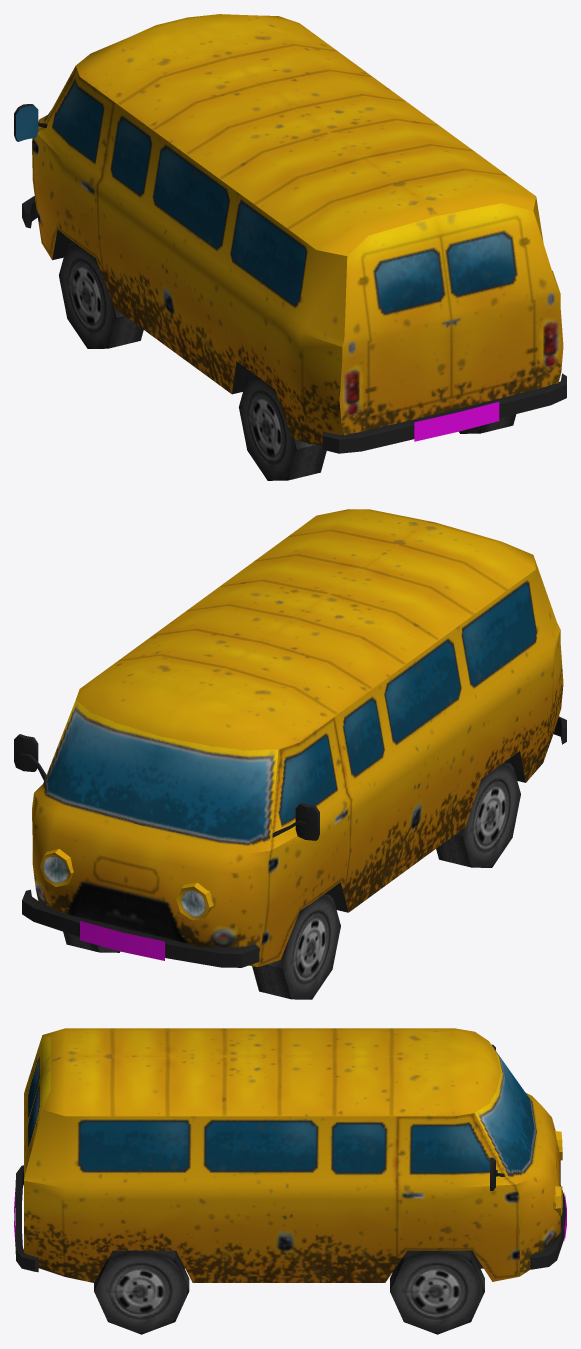
File: uaz452.glb
3 views of the same model, one above another, from view 1: azimuth 30°, elevation 25°; view 2: azimuth 150°, elevation 25°; view 3: azimuth 270°, elevation 25° (orthographic). The views are drawn at different scales.
Visible parts, largest first — view 1: Body, Trim, WheelRL, WheelFL; view 2: Body, Trim, WheelFL, WheelRL; view 3: Body, WheelFR, WheelRR, Trim.
Part boxes in pixels (bbox=[...]): Body: bbox=[32, 14, 563, 445]; Trim: bbox=[14, 104, 566, 453]; WheelRL: bbox=[239, 374, 326, 480]; WheelFL: bbox=[59, 243, 143, 348]; Body: bbox=[32, 509, 563, 966]; Trim: bbox=[14, 716, 566, 967]; WheelFL: bbox=[252, 893, 340, 999]; WheelRL: bbox=[436, 761, 520, 867]; Body: bbox=[24, 1028, 562, 1282]; WheelFR: bbox=[390, 1250, 484, 1334]; WheelRR: bbox=[94, 1250, 189, 1334]; Trim: bbox=[14, 1044, 566, 1272].
Size of the model in its own units: 7.75 by 6.92 by 14.86.
6 materials, 6 textured.
